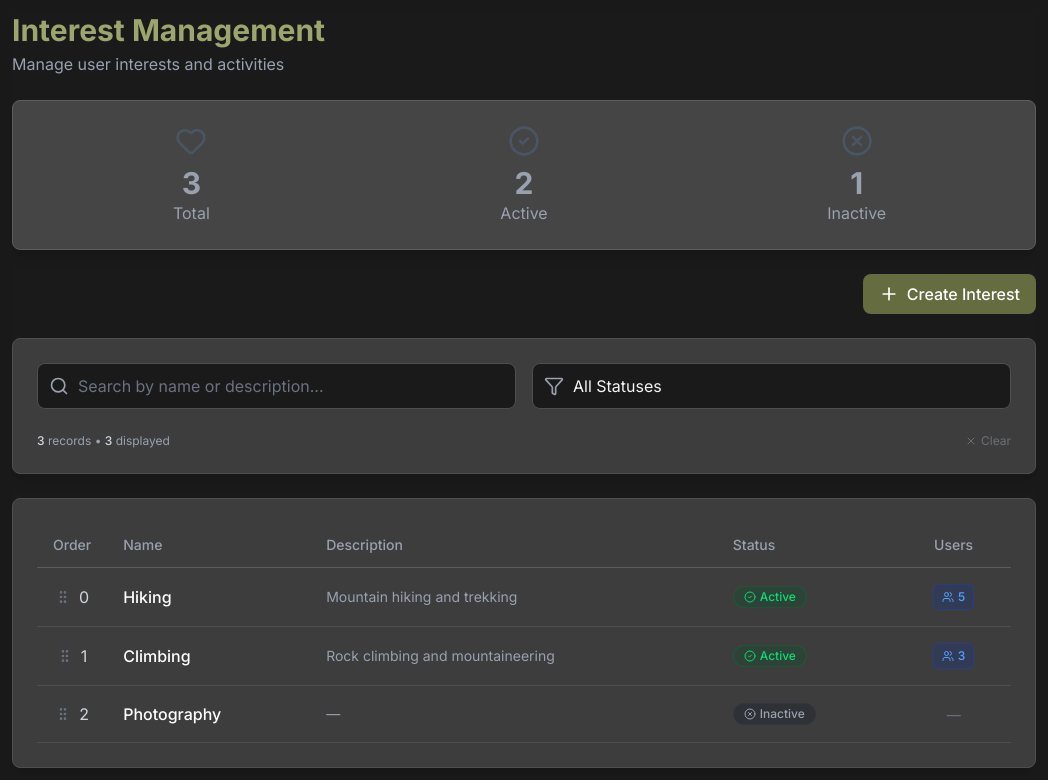
Scenario: InterestManagement › Empty State › should show no results message with filters
The image size is (1048, 780).
Check: the text "Hiking" is shown, box [123, 587, 172, 607]
Type "NonExistent" into the field with placeholder "Search by name or description...".
click(276, 386); type("NonExistent")  # box [37, 363, 516, 409]
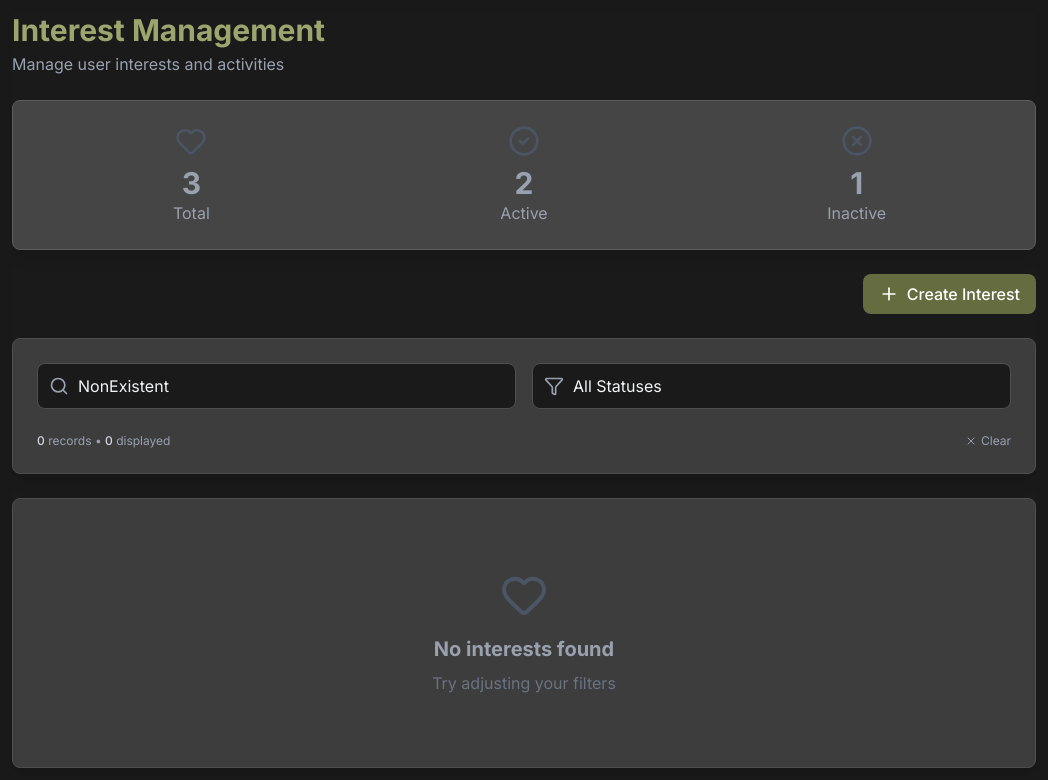
Check: the heading "No interests found" is shown, box [434, 637, 614, 661]
Check: the text "Try adjusting your filters" is shown, box [432, 673, 616, 693]
